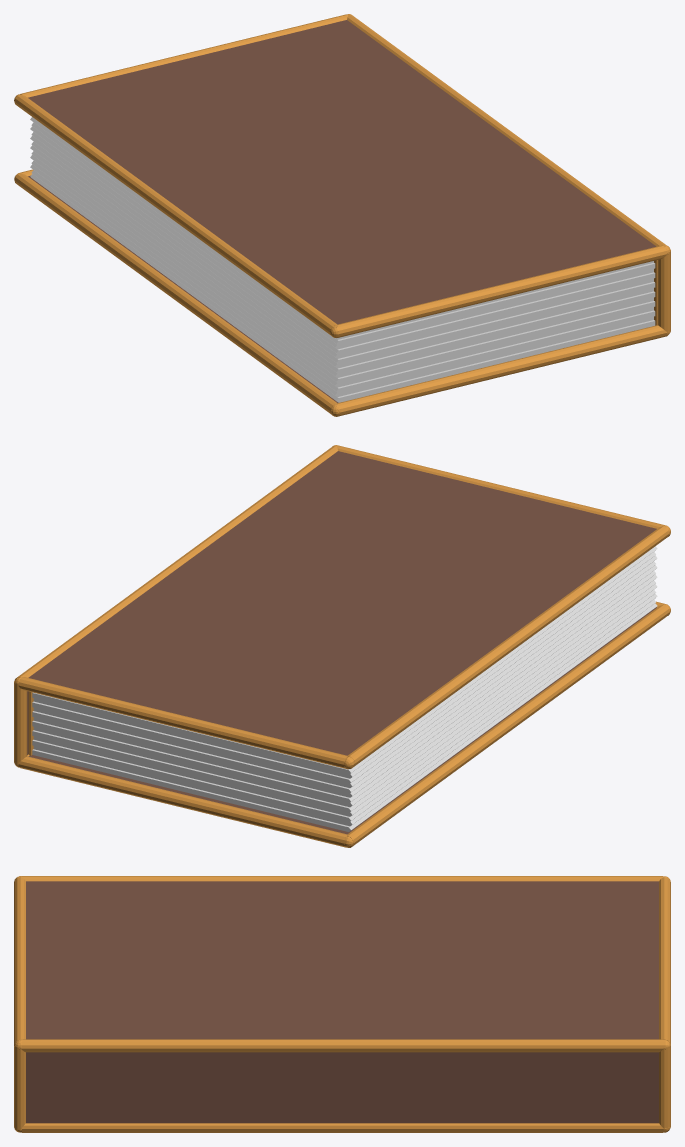
File: book.glb
3 views of the same model, one above another, from view 1: azimuth 30°, elevation 25°; view 2: azimuth 150°, elevation 25°; view 3: azimuth 270°, elevation 25° (orthographic).
Parts seen in each view (by area): view 1: group205953448, group2054475742, group1561494337; view 2: group205953448, group2054475742, group1561494337; view 3: group205953448, group1561494337.
Boxes of the visible parts, x1,y1,x2,y2 form: group205953448: [28, 20, 656, 402]; group2054475742: [30, 117, 655, 402]; group1561494337: [14, 14, 670, 416]; group205953448: [27, 451, 656, 834]; group2054475742: [32, 546, 657, 831]; group1561494337: [14, 445, 670, 847]; group205953448: [26, 881, 658, 1123]; group1561494337: [14, 876, 670, 1132].
Bounding box in the file's own units: 1.49 × 0.3801 × 2.45.
